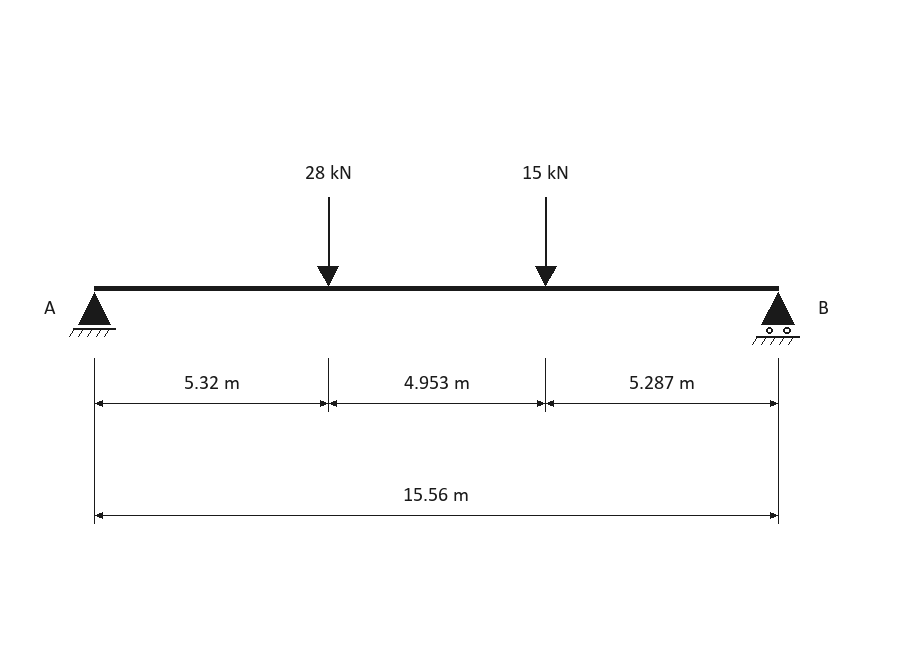pin_support: (69, 292, 116, 337)
point_load: (317, 197, 339, 286), (535, 197, 557, 286)
roller_support: (752, 292, 800, 345)
